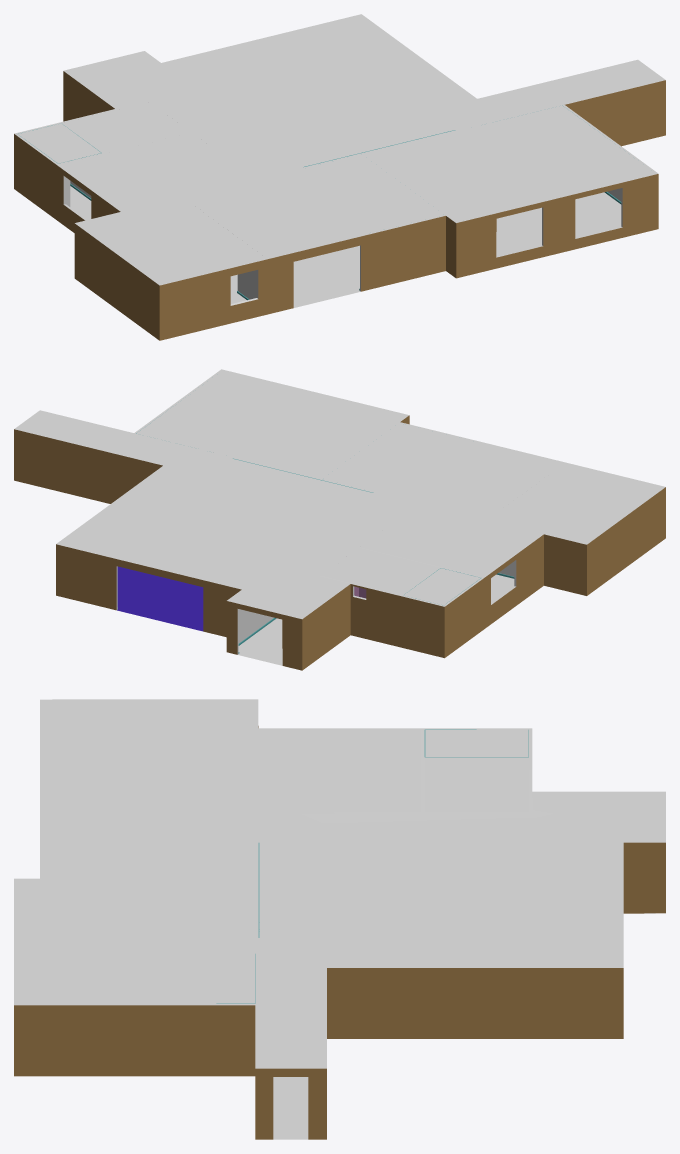
File: lahouse.fbx
3 views of the same model, one above another, from view 1: azimuth 30°, elevation 25°; view 2: azimuth 150°, elevation 25°; view 3: azimuth 270°, elevation 25° (orthographic). The views are drawn at different scales.
Parts seen in each view (by area): view 1: ceiling, walls, floor; view 2: ceiling, walls, floor; view 3: ceiling, walls, floor.
Boxes of the visible parts, bbox=[...] form: ceiling: bbox=[18, 14, 665, 285]; walls: bbox=[14, 14, 665, 340]; floor: bbox=[70, 186, 621, 307]; ceiling: bbox=[15, 369, 665, 618]; walls: bbox=[14, 369, 665, 670]; floor: bbox=[117, 566, 514, 665]; ceiling: bbox=[14, 699, 665, 1068]; walls: bbox=[14, 699, 665, 1139]; floor: bbox=[273, 913, 655, 1139].
Size of the model in its own units: 2680 by 241 by 2000.
